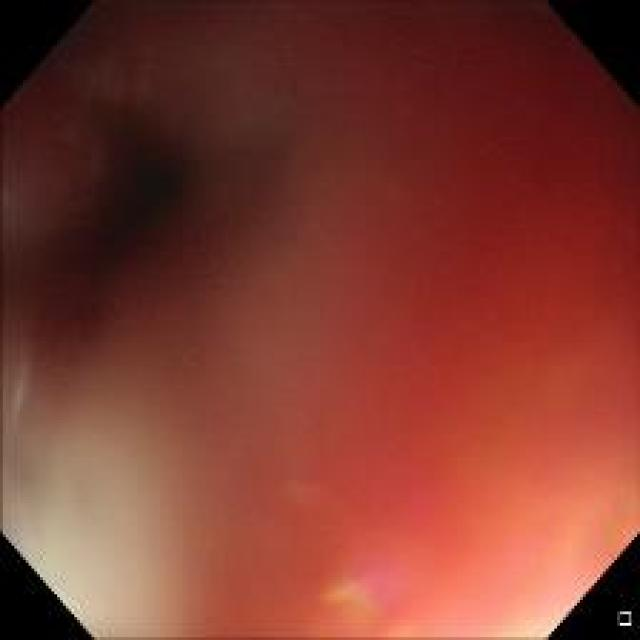blur: (5, 2, 639, 635)
color misalignment: (8, 12, 638, 629), (319, 546, 431, 612)
contrast: (1, 19, 246, 364)
